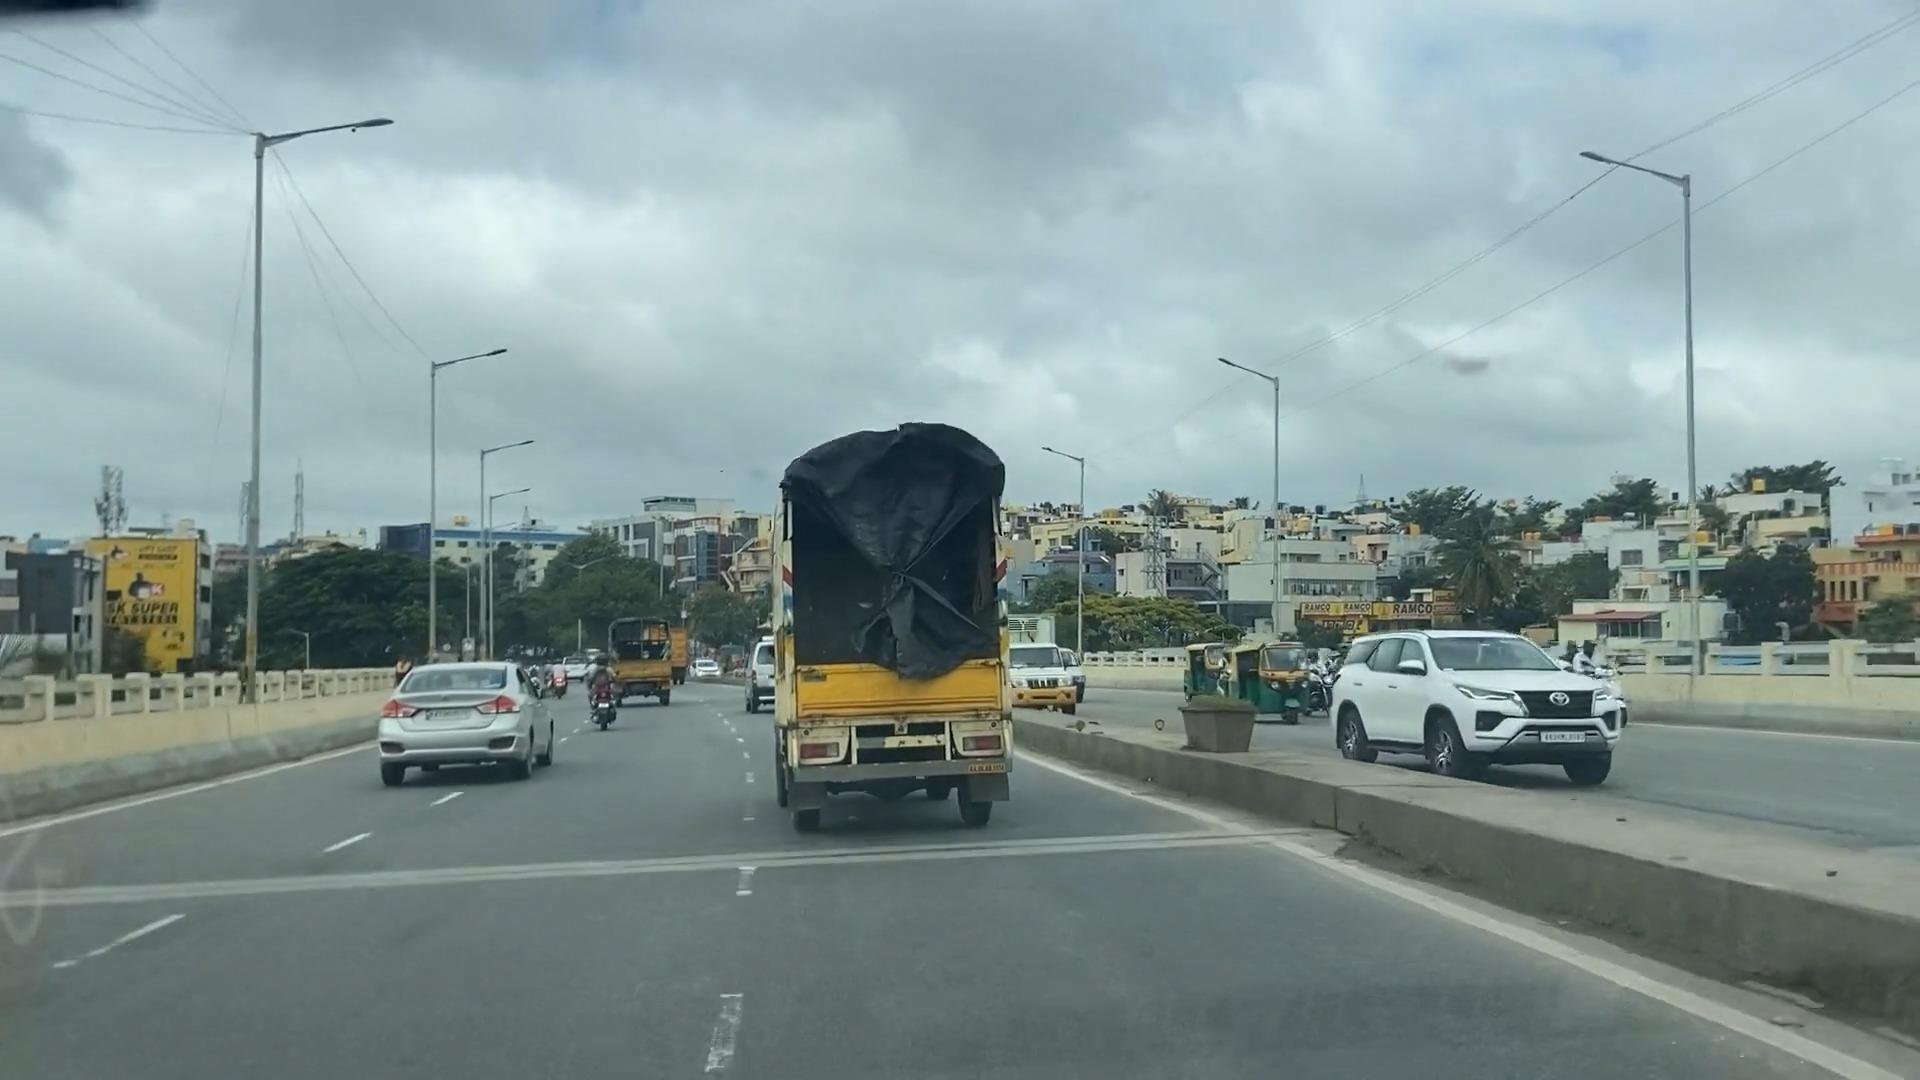HMV: (754, 397, 1058, 849)
